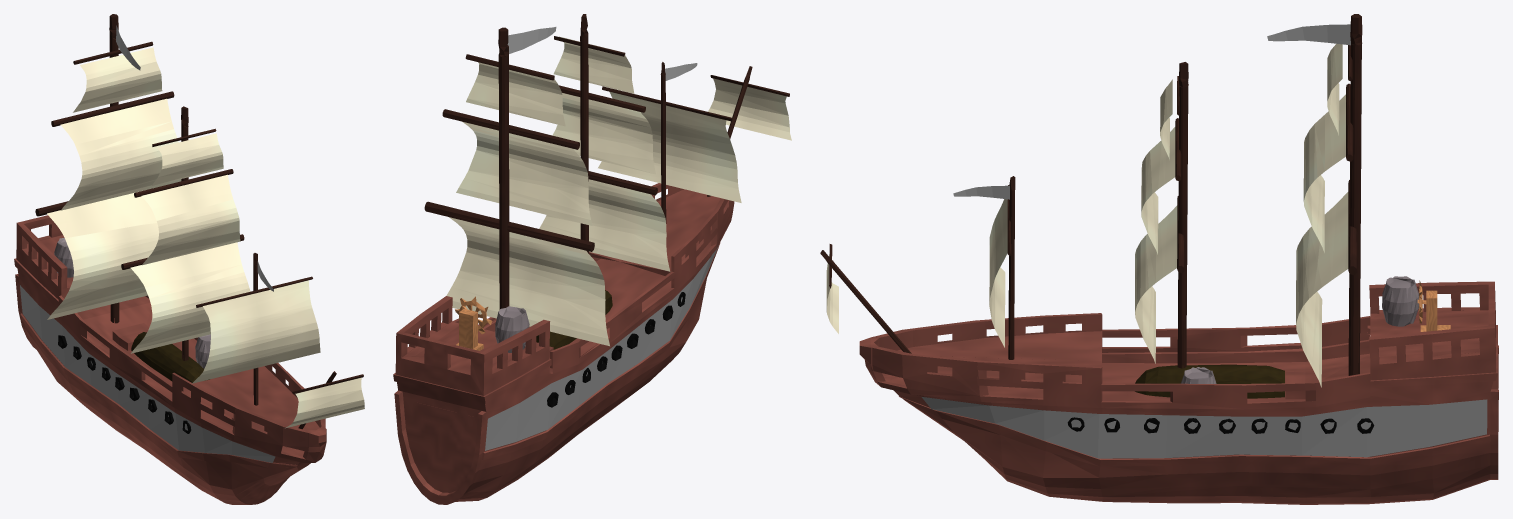
The model's file is cimpletoon.f32c67875649.frigate.glb.
3 renders of one model, left to right at view 1: azimuth 30°, elevation 25°; view 2: azimuth 150°, elevation 25°; view 3: azimuth 270°, elevation 25°, orthographic. The views are drawn at different scales.
Visible parts, largest first — view 1: frigate.glb; view 2: frigate.glb; view 3: frigate.glb.
Part boxes in pixels (x1=…): frigate.glb: x1=14, y1=14, x2=364, y2=504; frigate.glb: x1=393, y1=14, x2=791, y2=504; frigate.glb: x1=820, y1=14, x2=1498, y2=504.
Bounding box in the file's own units: 1.04 × 2.64 × 3.34.
1 material, 1 textured.
